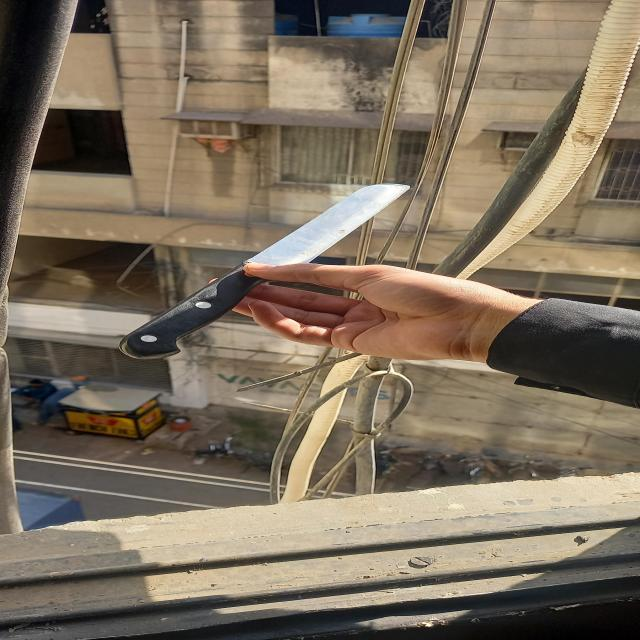faca: (125, 185, 402, 360)
